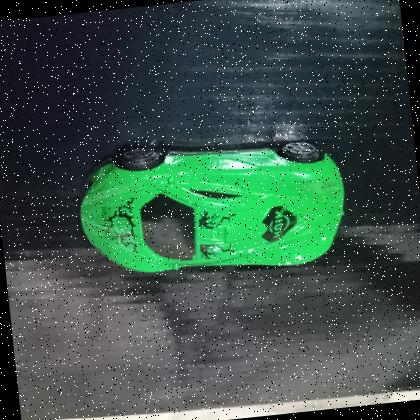Car: (78, 138, 345, 272)
